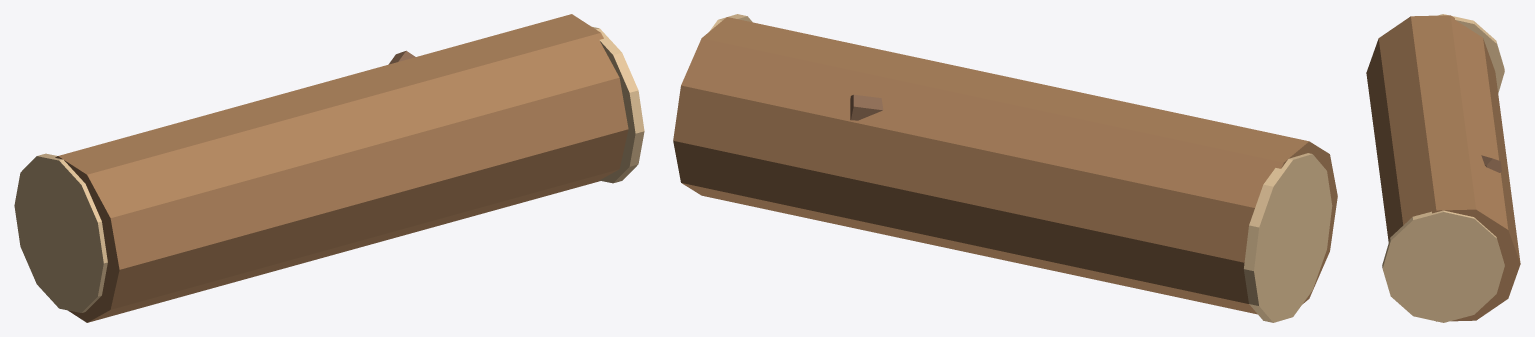
File: stump_log_03.glb
3 views of the same model, side by side, from view 1: azimuth 30°, elevation 25°; view 2: azimuth 150°, elevation 25°; view 3: azimuth 270°, elevation 25° (orthographic). The views are drawn at different scales.
Parts seen in each view (by area): view 1: stump_log_03; view 2: stump_log_03; view 3: stump_log_03.
Boxes of the visible parts, x1,y1,x2,y2 form: stump_log_03: (14,14,644,322); stump_log_03: (673,14,1337,322); stump_log_03: (1366,14,1520,322).
Size of the model in its own units: 2.06 by 0.5326 by 0.6701.
